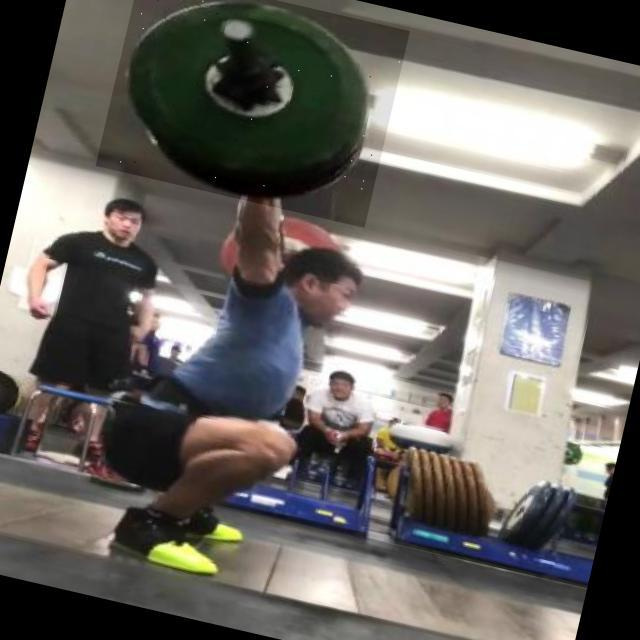barbell: (96, 1, 410, 228)
